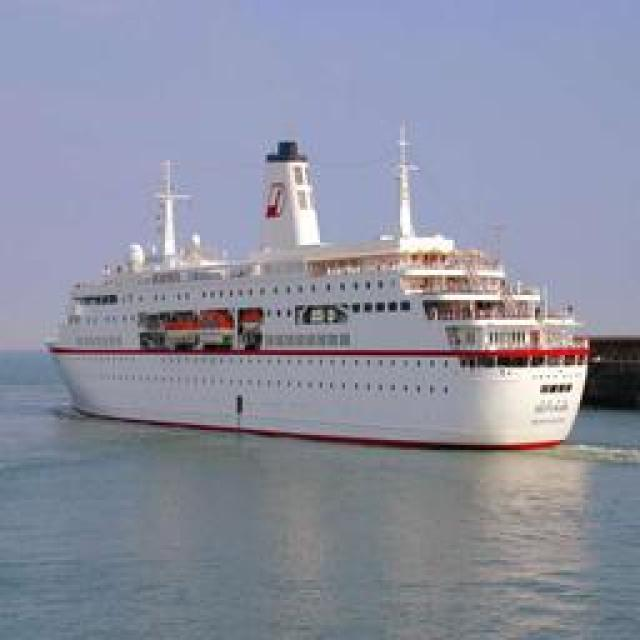ship: (42, 109, 592, 447)
